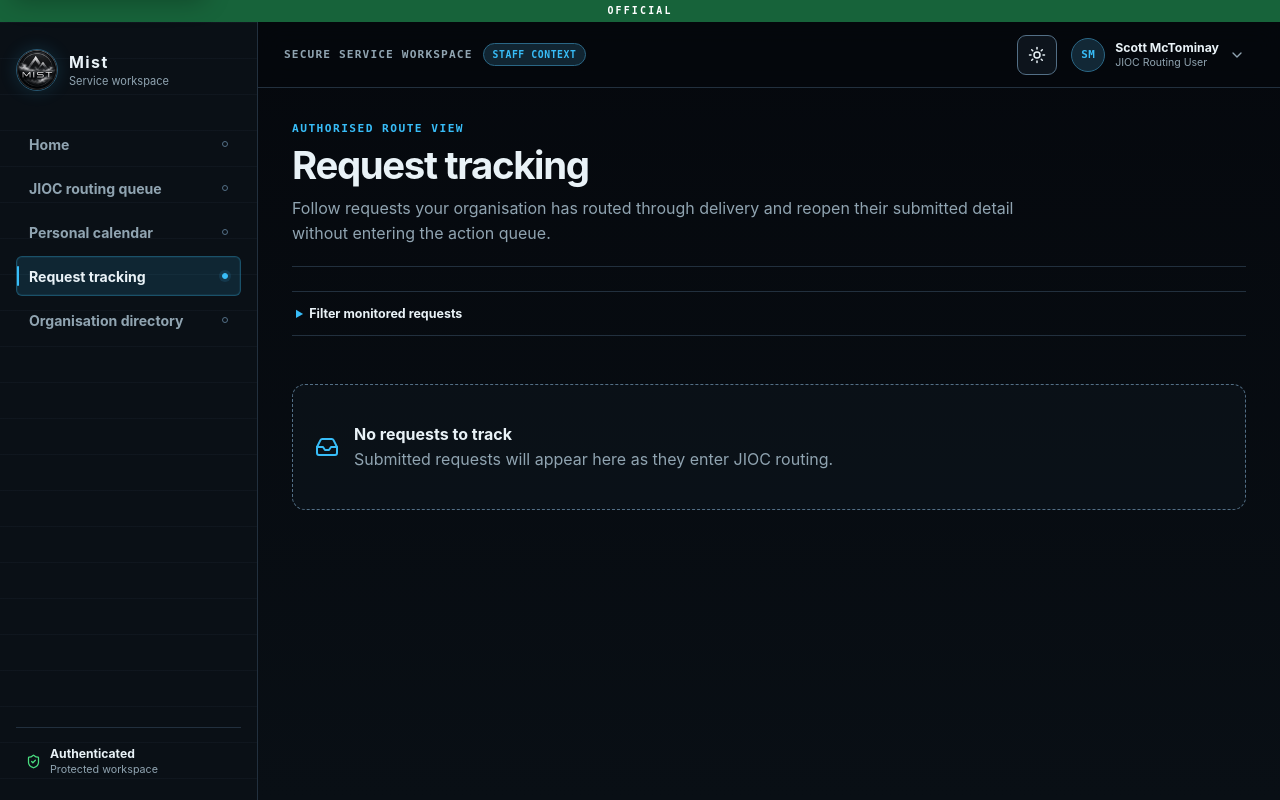
Scenario: Customer and staff context switching › does not resurrect a switched session after another tab signs out
Expected: the heading "Request tracking" is shown, top-left (292, 142), bottom-right (589, 188)
Click the button with aria-label "Open account menu" at (1160, 54), box top-left (1065, 32), bottom-right (1254, 76)
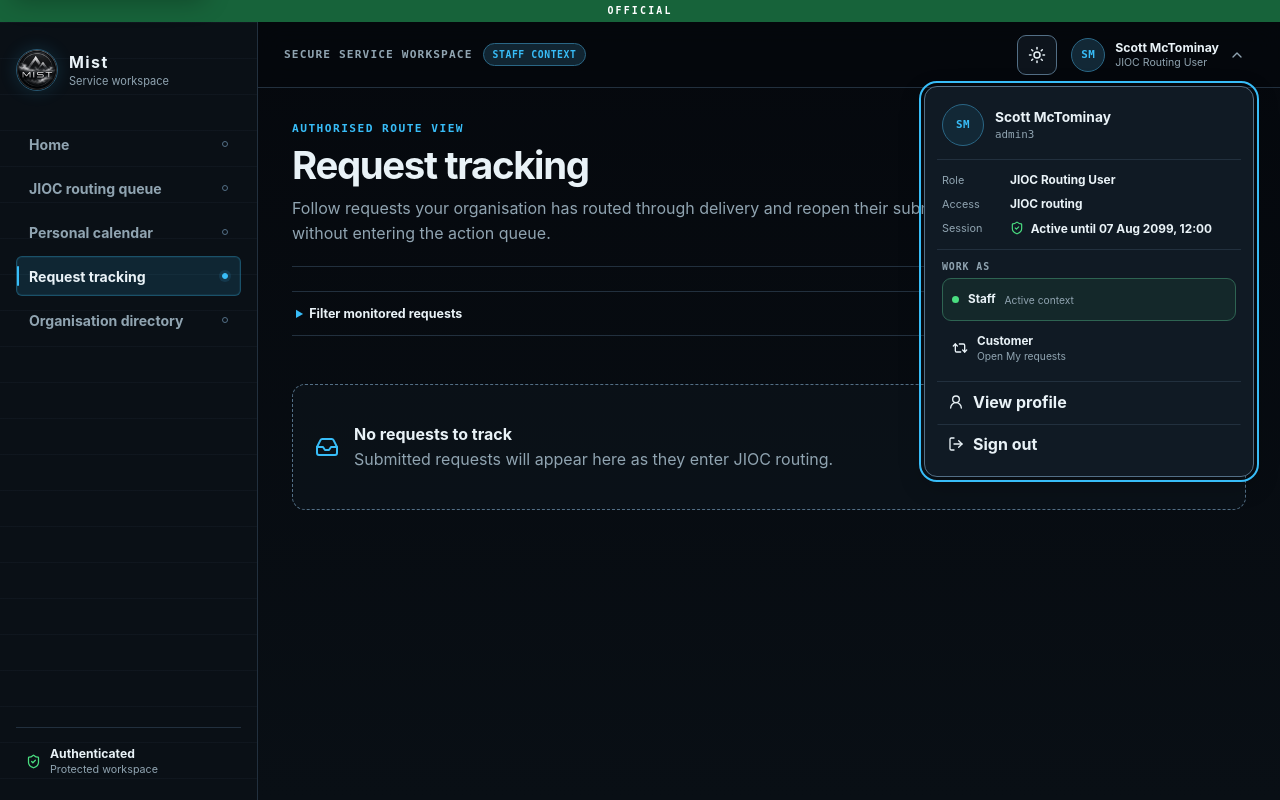
Click the button with aria-label "Switch to Customer context" at (1005, 341), box top-left (942, 326), bottom-right (1236, 370)
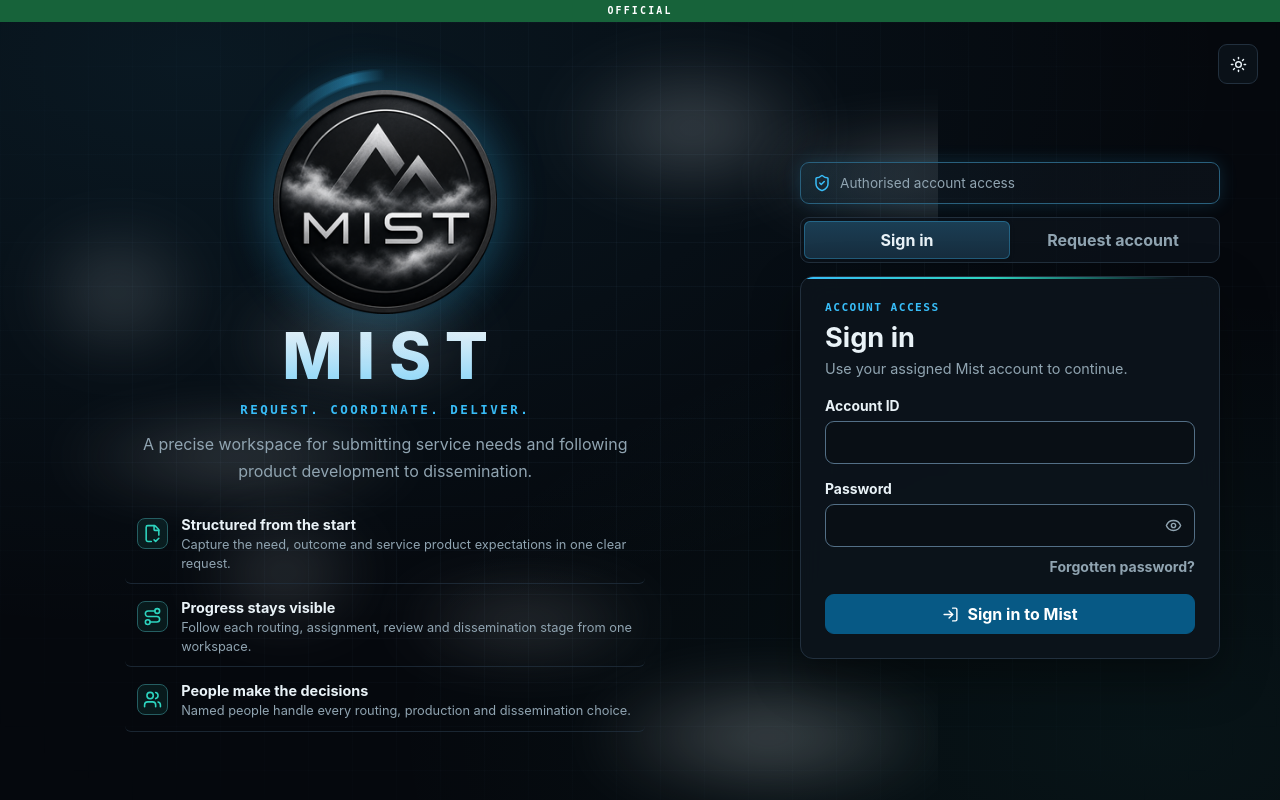
Expected: the heading "Sign in" is shown, top-left (825, 322), bottom-right (915, 354)
